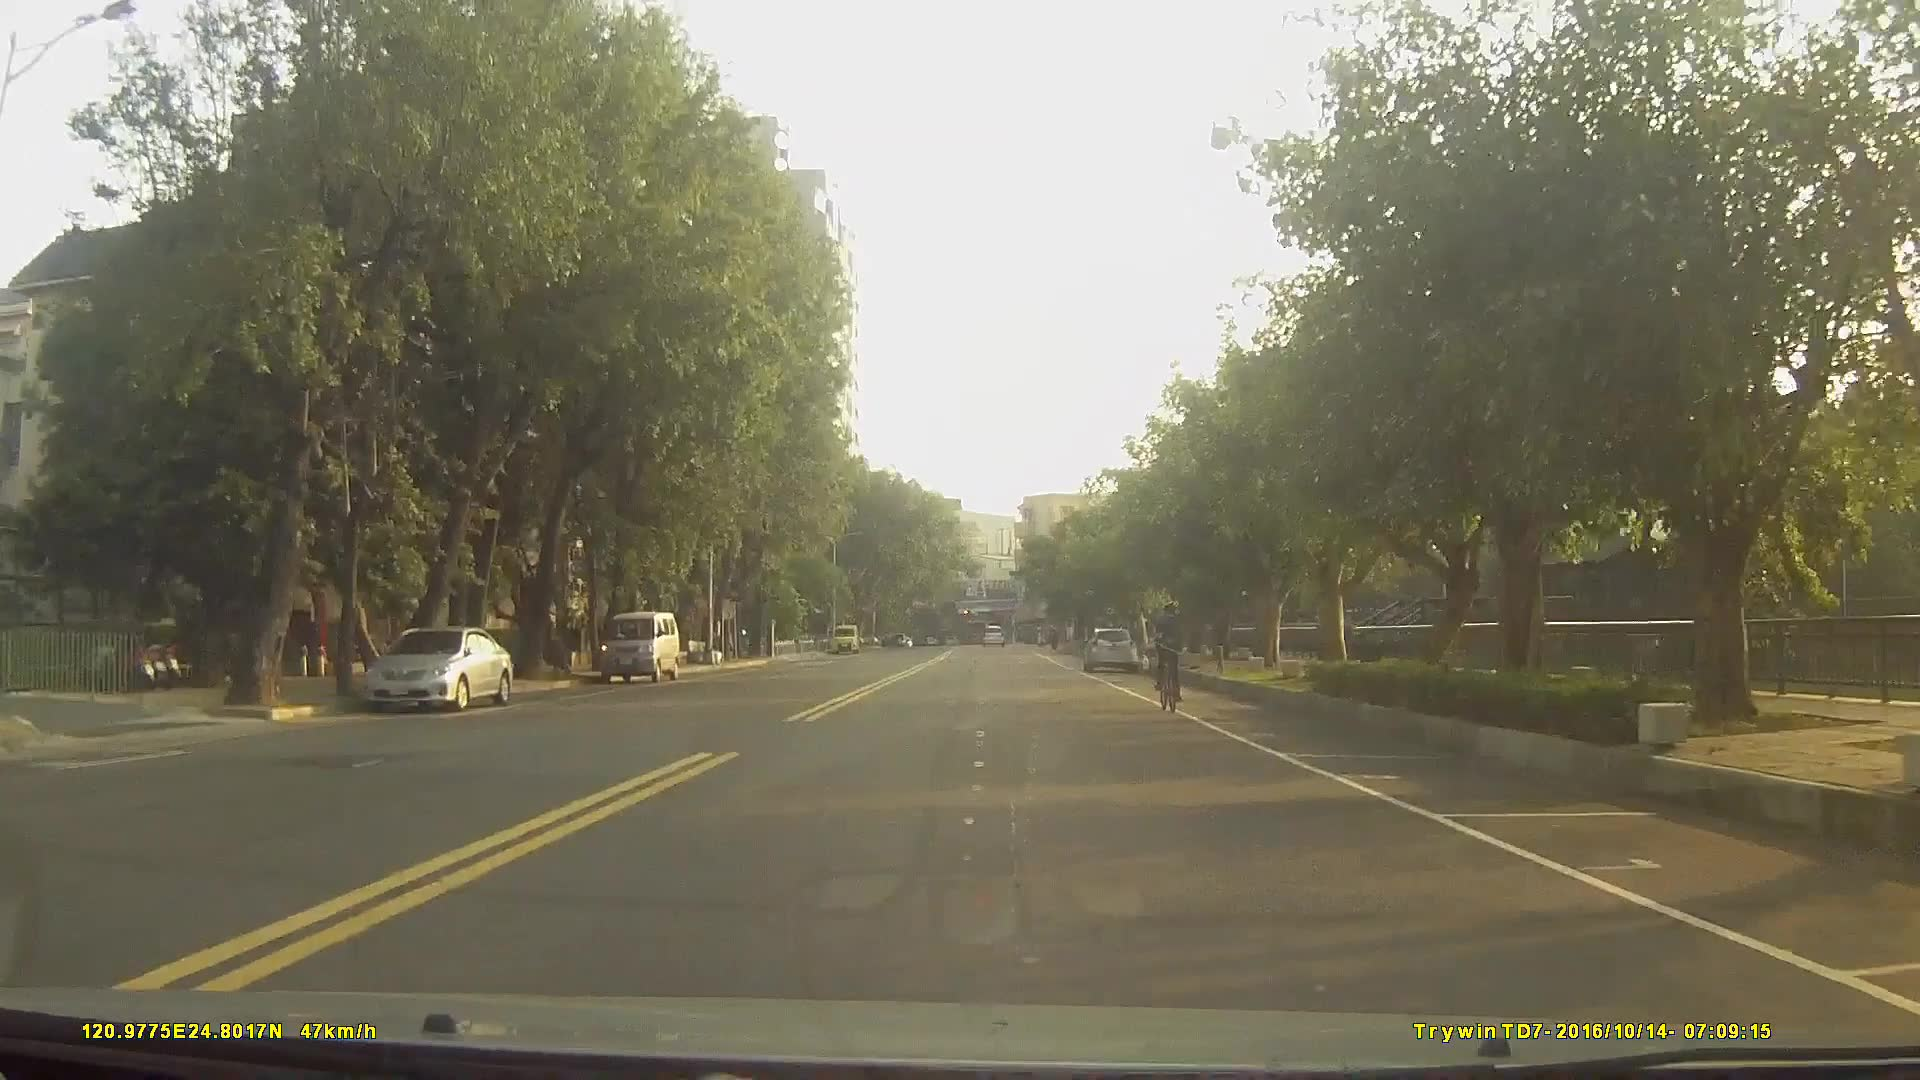rider: (1152, 599, 1189, 713)
vehicle: (358, 622, 513, 711), (598, 609, 681, 681), (1081, 626, 1137, 674), (979, 624, 1006, 652)
